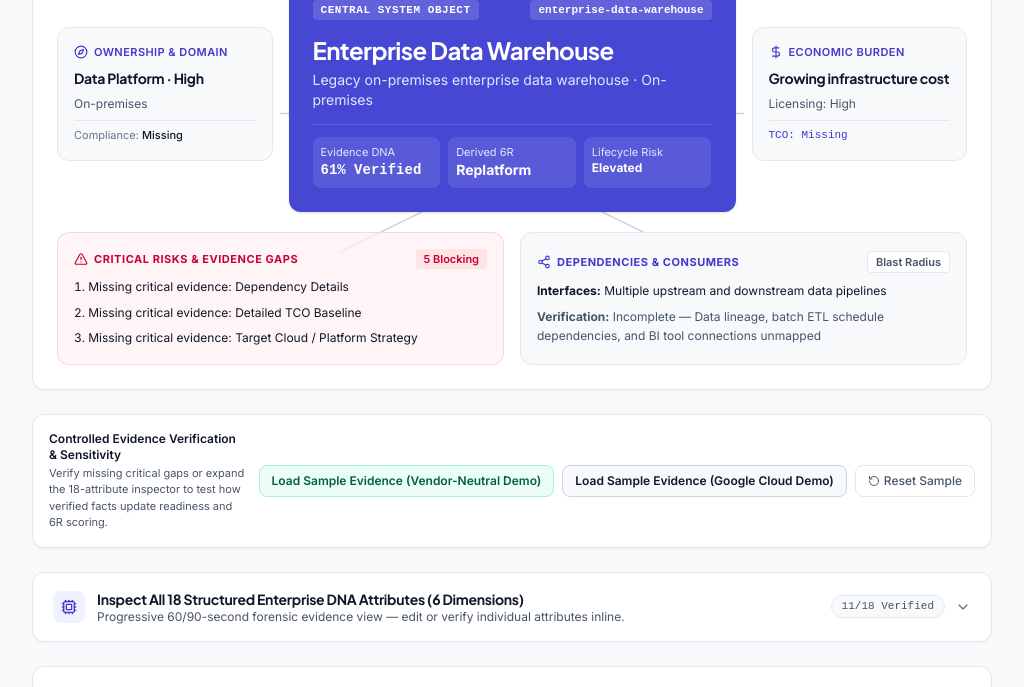
Test: EMOS v2 Full-Lifecycle Autonomous Implementation › supports controlled evidence verification, individual attribute editing, Reset Sample, and Spatial DNA graph
Later steps or results of the test are not shown.
(page scrolled)
Step 1. Click the button "Load Sample Evidence (Google Cloud Demo)" → (705, 481), box [562,465,847,497]
(page scrolled)
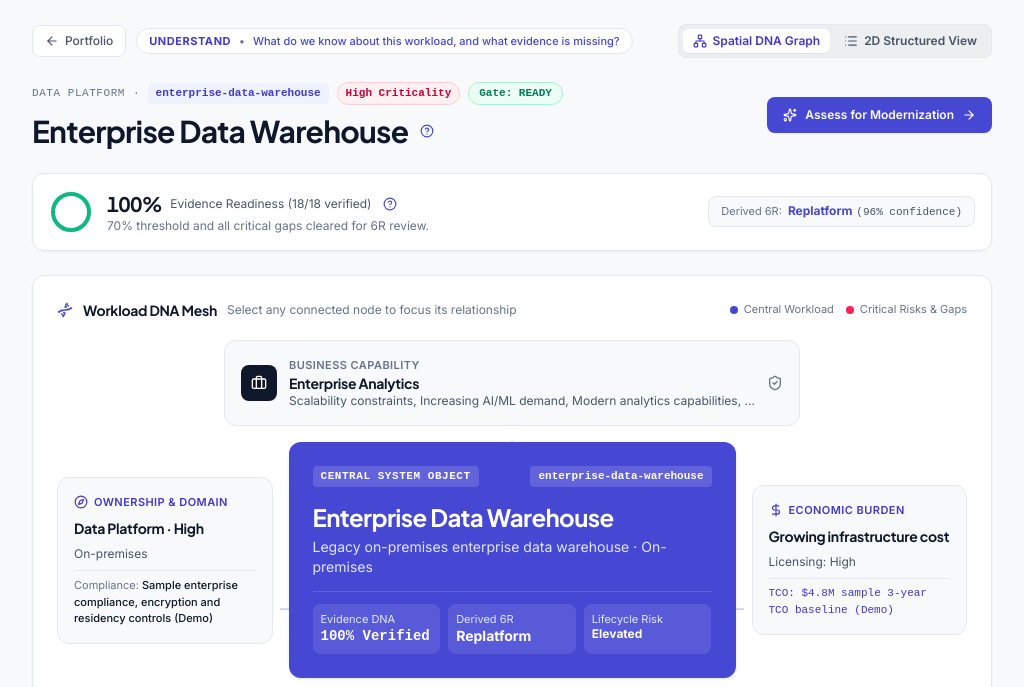
Now the text "100%" is shown, box [107,190,162,218]
Now the text "Gate: READY" is shown, box [468,82,563,104]
